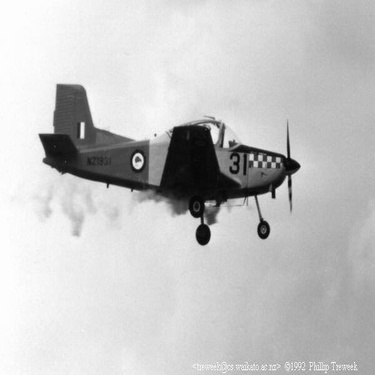airplane: (21, 65, 331, 256)
